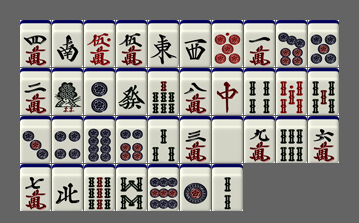0m: (84, 20, 115, 67)
0p: (212, 20, 243, 67)
0s: (276, 68, 307, 115)
1m: (244, 20, 275, 67)
1p: (180, 164, 211, 211)
1s: (52, 68, 83, 115)
1z: (148, 20, 179, 67)
2m: (20, 68, 51, 115)
2p: (84, 68, 115, 115)
2s: (212, 164, 243, 211)
2z: (52, 20, 83, 67)
3m: (180, 116, 211, 163)
3p: (20, 116, 51, 163)
3s: (148, 116, 179, 163)
3z: (180, 20, 211, 67)
4m: (20, 20, 51, 67)
4p: (52, 116, 83, 163)
4s: (244, 68, 275, 115)
4z: (52, 164, 83, 211)
5m: (116, 20, 147, 67)
5p: (308, 20, 339, 67)
5s: (308, 68, 339, 115)
5z: (212, 116, 243, 163)
6m: (308, 116, 339, 163)
6p: (116, 116, 147, 163)
6s: (276, 116, 307, 163)
6z: (116, 68, 147, 115)
7m: (20, 164, 51, 211)
7p: (276, 20, 307, 67)
7s: (148, 68, 179, 115)
7z: (212, 68, 243, 115)
8m: (180, 68, 211, 115)
8p: (84, 116, 115, 163)
8s: (116, 164, 147, 211)
9m: (244, 116, 275, 163)
9p: (148, 164, 179, 211)
9s: (84, 164, 115, 211)
